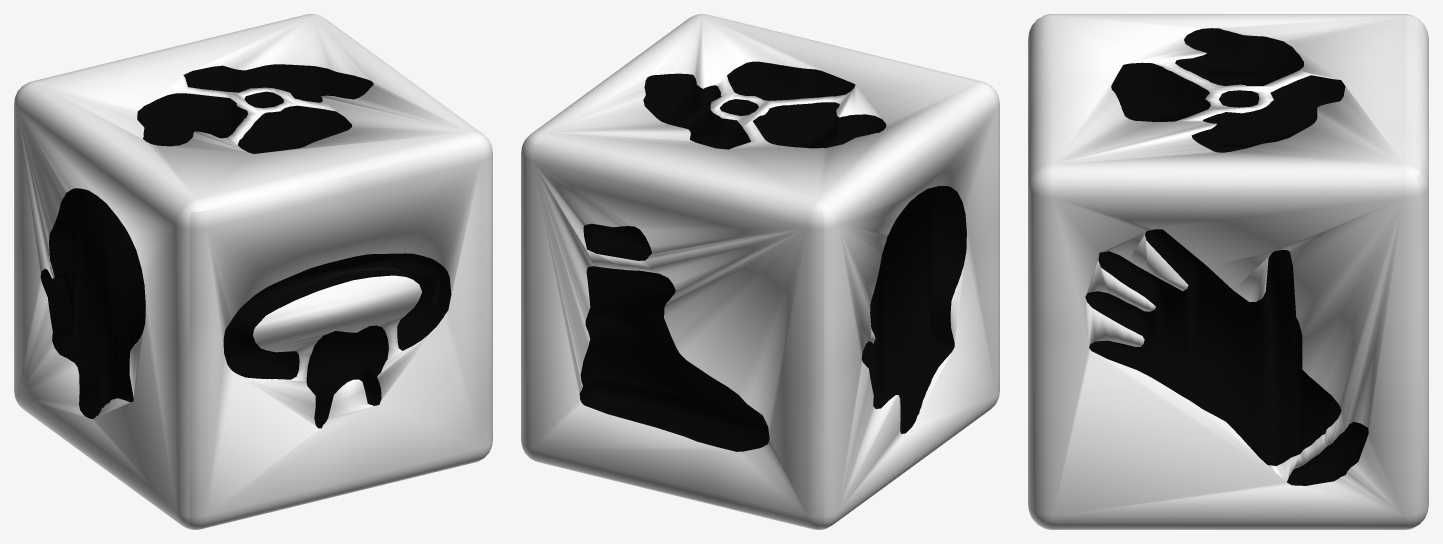
Rendered from armor-dice-eqhcB1k0.glb.
The picture shows the model from 3 angles, left to right: view 1: azimuth 30°, elevation 25°; view 2: azimuth 150°, elevation 25°; view 3: azimuth 270°, elevation 25°; orthographic projection. The views are drawn at different scales.
Visible parts, largest first — view 1: kdm_diceuntitled; view 2: kdm_diceuntitled; view 3: kdm_diceuntitled.
Boxes of the visible parts, box(x1,y1,x2,y2) form: kdm_diceuntitled: box(14, 14, 492, 529); kdm_diceuntitled: box(521, 14, 999, 529); kdm_diceuntitled: box(1028, 14, 1428, 529).
Bounding box in the file's own units: 1.2 × 1.2 × 1.2.
1 material, 1 textured.
